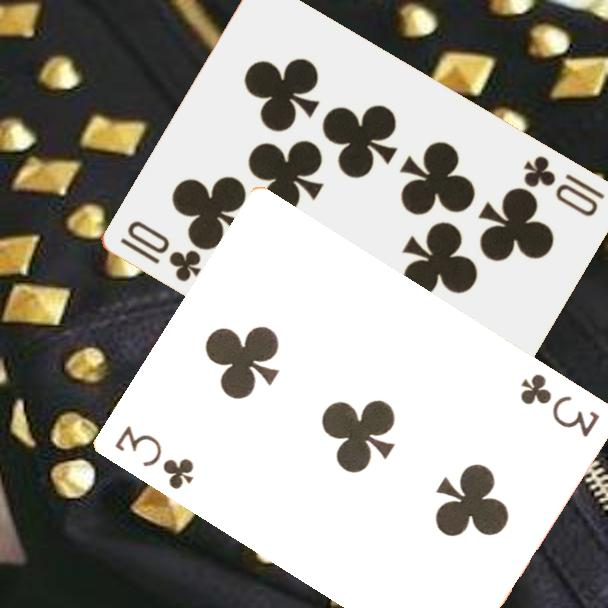c03: (515, 370, 602, 441), (110, 422, 196, 493)
c10: (115, 217, 204, 285), (519, 152, 607, 220)
